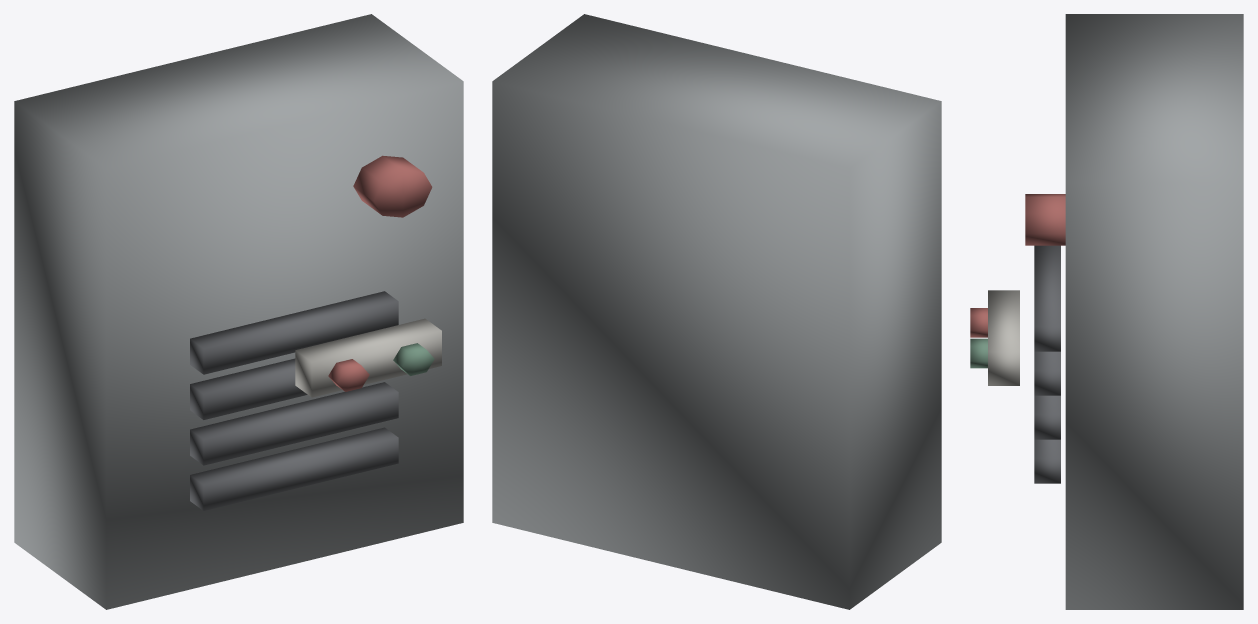
Rendered from wall_intercom__squat.glb.
3 views of the same model, side by side, from view 1: azimuth 30°, elevation 25°; view 2: azimuth 150°, elevation 25°; view 3: azimuth 270°, elevation 25° (orthographic). The views are drawn at different scales.
Parts seen in each view (by area): view 1: world; view 2: world; view 3: world.
Part boxes in pixels (box(x1,y1,x2,y2)): world: box(14, 14, 463, 609); world: box(492, 14, 941, 609); world: box(970, 14, 1243, 609).
Bounding box in the file's own units: 0.242 × 0.2856 × 0.1658.
